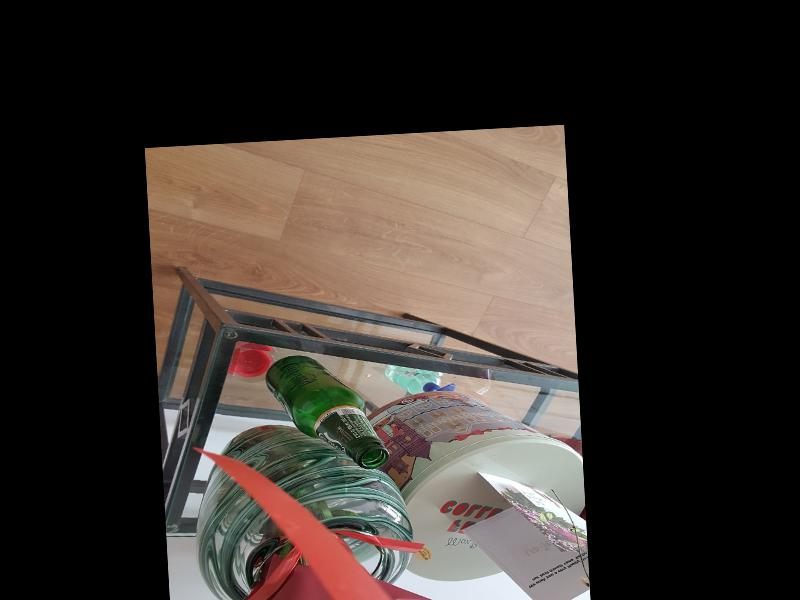Beer: (262, 351, 388, 474)
